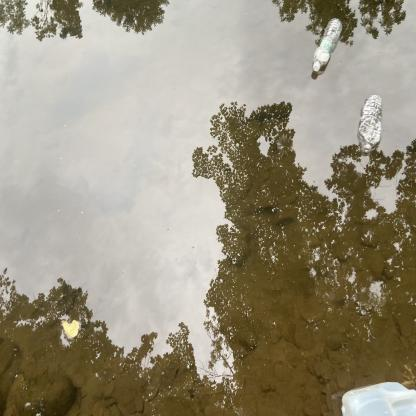trash: (336, 377, 415, 416), (307, 12, 349, 76), (355, 89, 389, 157)
